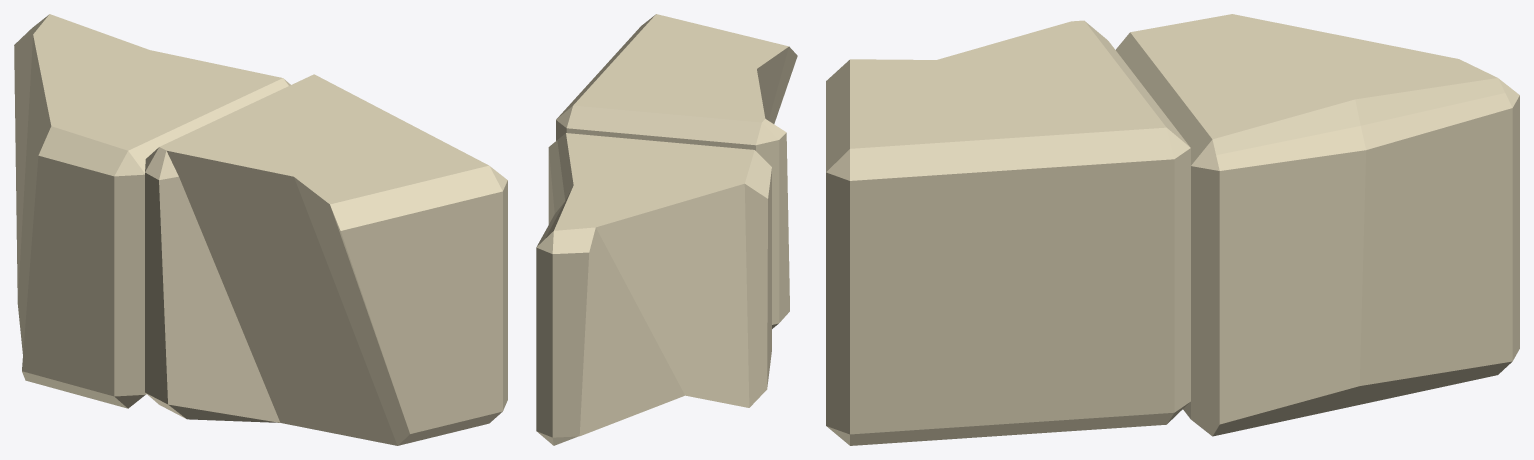
Rendered from Destroy_Arch_1.fbx.
3 views of the same model, side by side, from view 1: azimuth 30°, elevation 25°; view 2: azimuth 150°, elevation 25°; view 3: azimuth 270°, elevation 25° (orthographic). The views are drawn at different scales.
Visible parts, largest first — view 1: Destroy_Arch_1; view 2: Destroy_Arch_1; view 3: Destroy_Arch_1.
Part boxes in pixels (x1,y1,x2,y2): Destroy_Arch_1: (14,14,507,445); Destroy_Arch_1: (536,14,797,445); Destroy_Arch_1: (826,14,1519,445).
Bounding box in the file's own units: 194 × 159 × 317.
